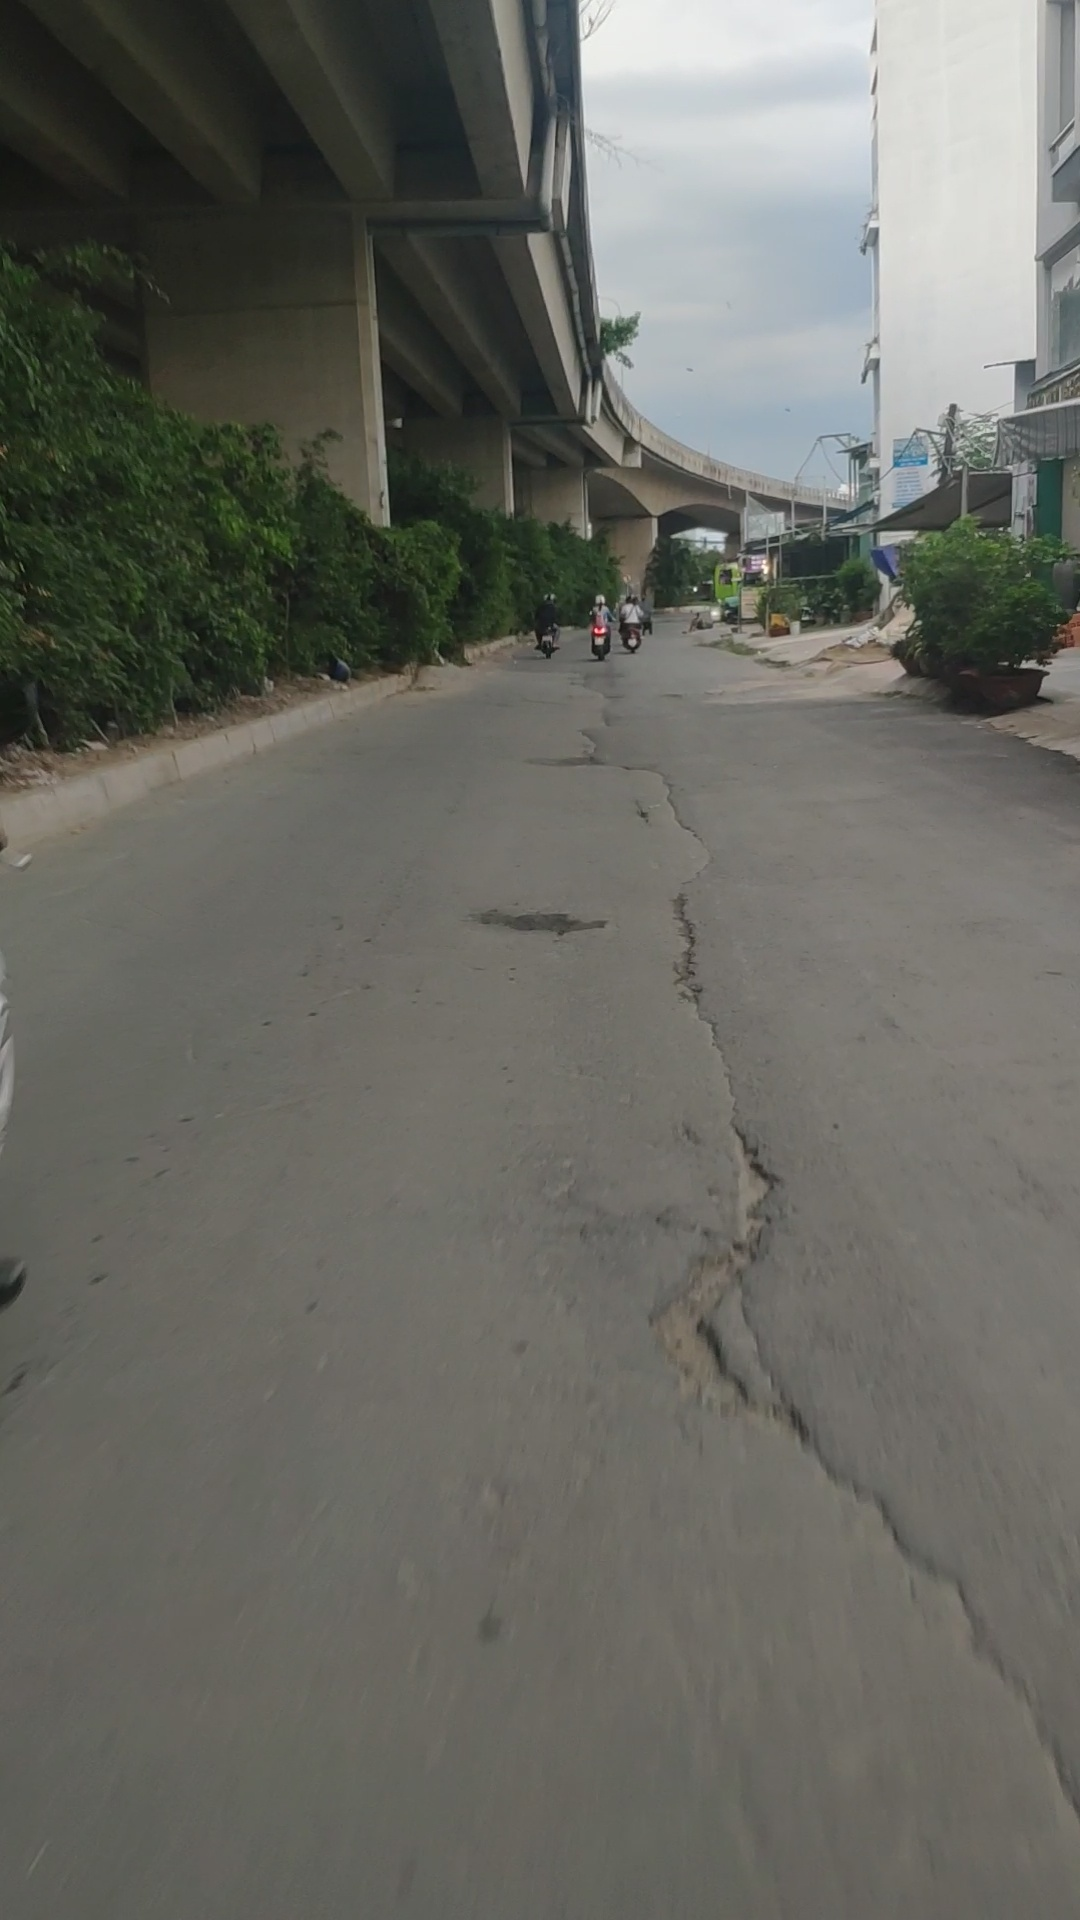hole: (642, 1246, 796, 1431), (716, 1110, 804, 1265), (465, 899, 616, 943)
